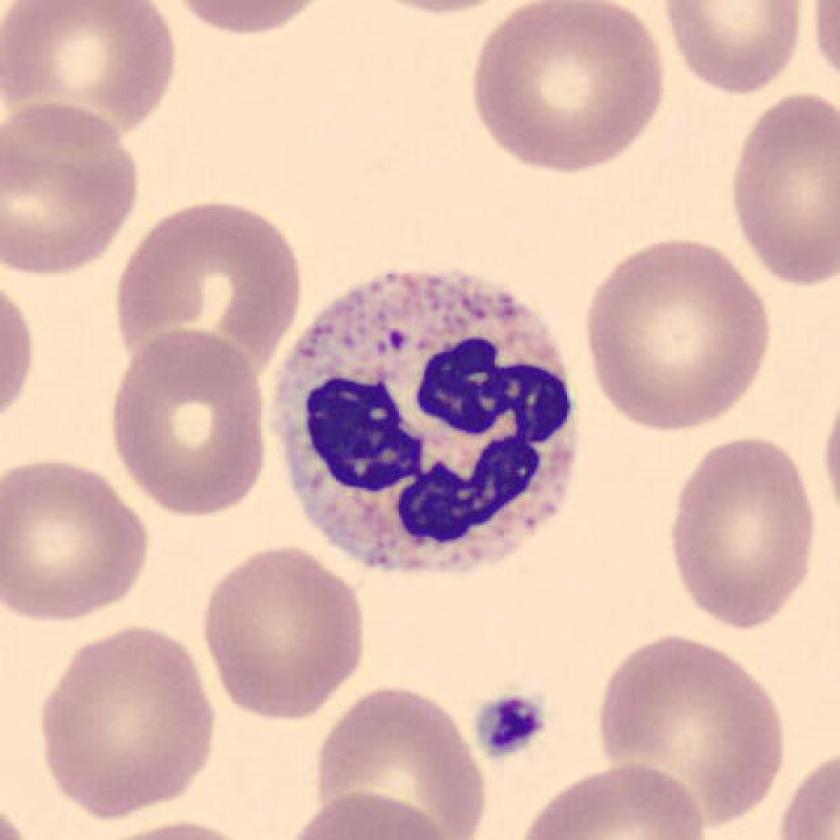neutrophil: (273, 268, 576, 574)
